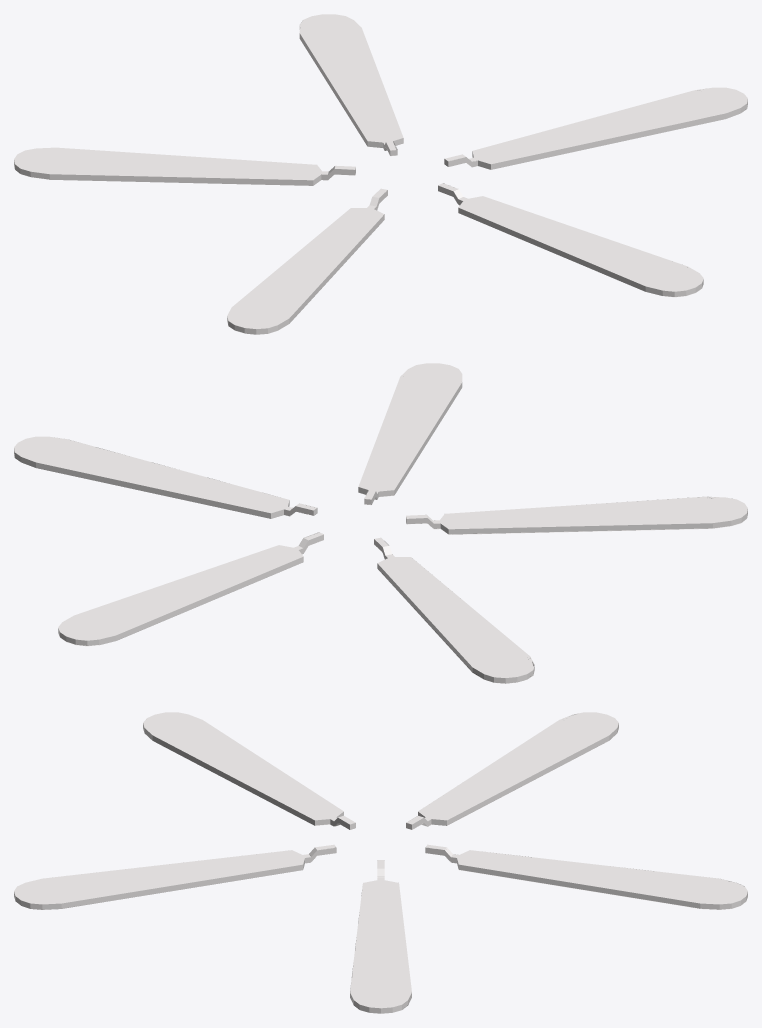
File: fan_blades.FBX
The picture shows the model from 3 angles, top to bottom: view 1: azimuth 30°, elevation 25°; view 2: azimuth 150°, elevation 25°; view 3: azimuth 270°, elevation 25°; orthographic projection. The views are drawn at different scales.
Visible parts, largest first — view 1: fan_blades; view 2: fan_blades; view 3: fan_blades.
Part boxes in pixels (x1=…): fan_blades: x1=14, y1=14, x2=747, y2=334; fan_blades: x1=14, y1=363, x2=747, y2=683; fan_blades: x1=14, y1=712, x2=747, y2=1013.
Bounding box in the file's own units: 96.8 × 1.74 × 101.
1 material, 1 textured.
